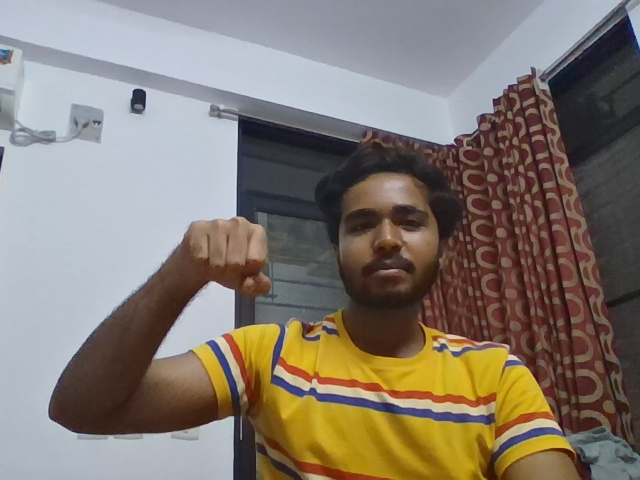Yes: (170, 201, 286, 313)
